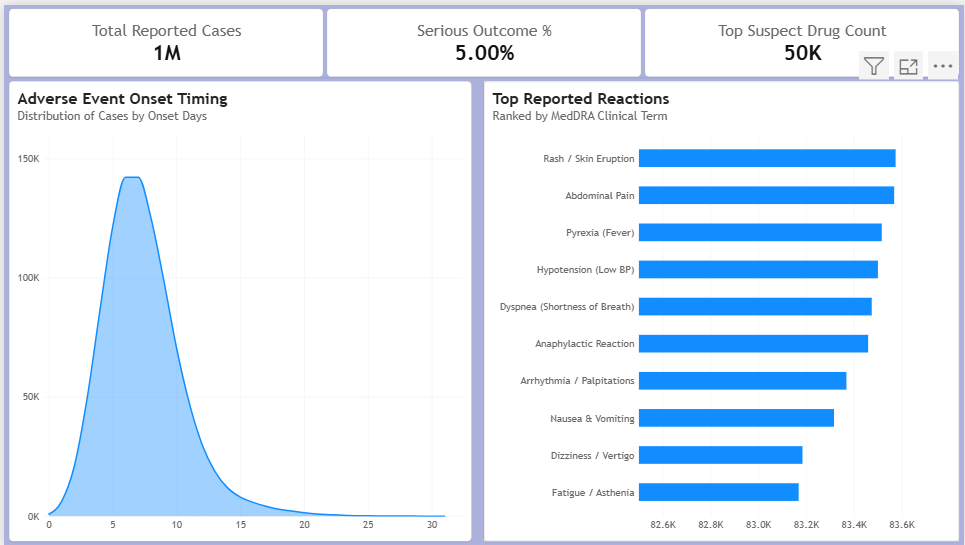

The dashboard page shown, as its layout file describes it:
{"tool":"powerbi","page":{"name":"Executive Summary","canvas":[1920,1080],"ordinal":0},"visuals":[{"type":"cardVisual","fields":{"Data":["_Measures.Total Reported Cases","_Measures.Serious Outcome %","_Measures.Top Suspect Drug Count"]},"box":[10,6.7,1900,136.7],"z":0},{"type":"clusteredBarChart","title":"Top Reported Reactions","fields":{"Y":["_Measures.Total Reported Cases"],"Category":["Dim_Events.adr_term"]},"box":[960,152.5,950,920],"z":1000},{"type":"stackedAreaChart","title":"Adverse Event Onset Timing","fields":{"Category":["Fact_ADR_Reports.onset_days"],"Y":["_Measures.Total Reported Cases"]},"box":[10,152.5,925,920],"z":2000}]}

Visuals, with their boxes in screenshot pixels (x1, y1, x2, y2), scaled from the page's 1920x1080 canvas onto the 965x545 screenshot:
cardVisual - _Measures.Total Reported Cases x _Measures.Serious Outcome %: l=5, t=3, r=960, b=72
"Top Reported Reactions" clusteredBarChart: l=482, t=77, r=960, b=541
"Adverse Event Onset Timing" stackedAreaChart: l=5, t=77, r=470, b=541
